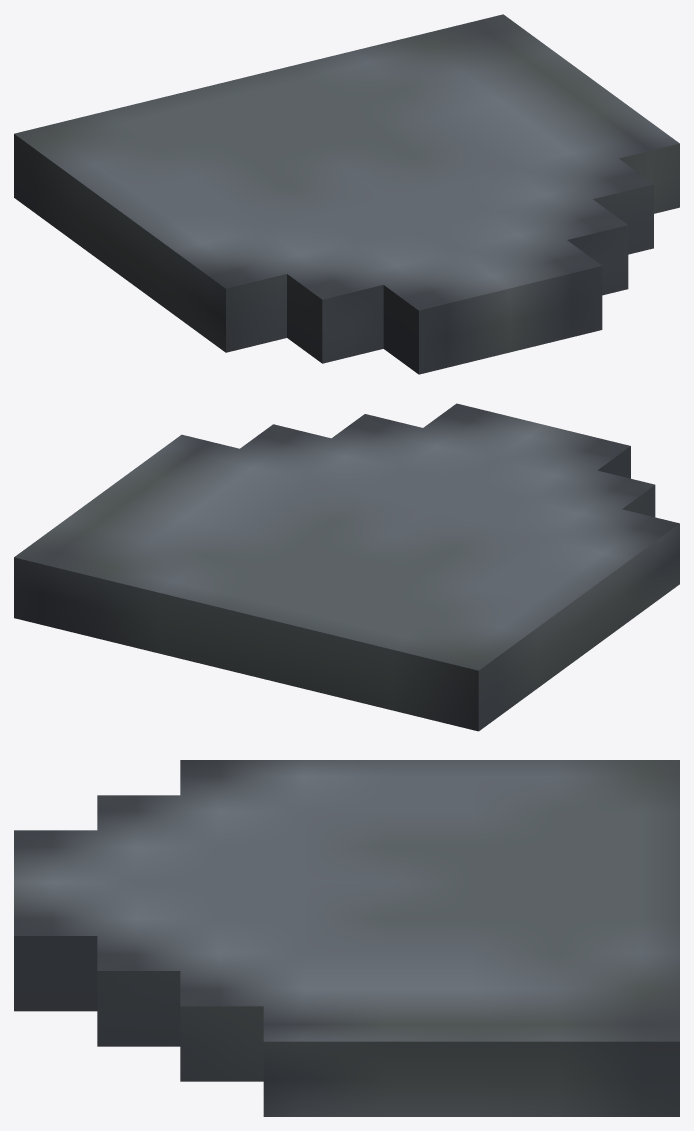
The model's file is floor_corner_stone_type_01_blue.fbx.
3 renders of one model, top to bottom at view 1: azimuth 30°, elevation 25°; view 2: azimuth 150°, elevation 25°; view 3: azimuth 270°, elevation 25°, orthographic. The views are drawn at different scales.
Parts seen in each view (by area): view 1: floor_corner_stone_type_01_blue; view 2: floor_corner_stone_type_01_blue; view 3: floor_corner_stone_type_01_blue.
Part boxes in pixels (x1,y1,x2,y2): floor_corner_stone_type_01_blue: [14, 14, 679, 374]; floor_corner_stone_type_01_blue: [14, 403, 679, 731]; floor_corner_stone_type_01_blue: [14, 760, 679, 1116].
Size of the model in its own units: 8 by 1 by 8.
